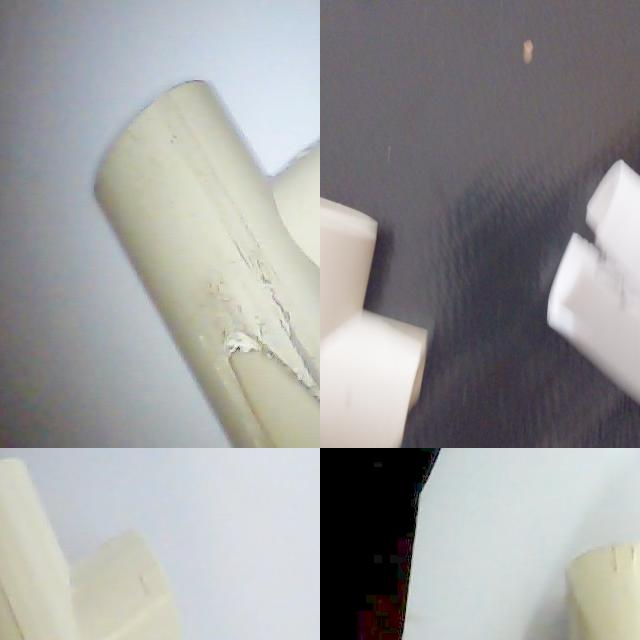Defective: (214, 336, 320, 448), (404, 370, 499, 448), (417, 0, 494, 68)
L Joint: (320, 0, 499, 218), (320, 384, 556, 448)
T Joint: (93, 80, 320, 448), (0, 458, 184, 640)
